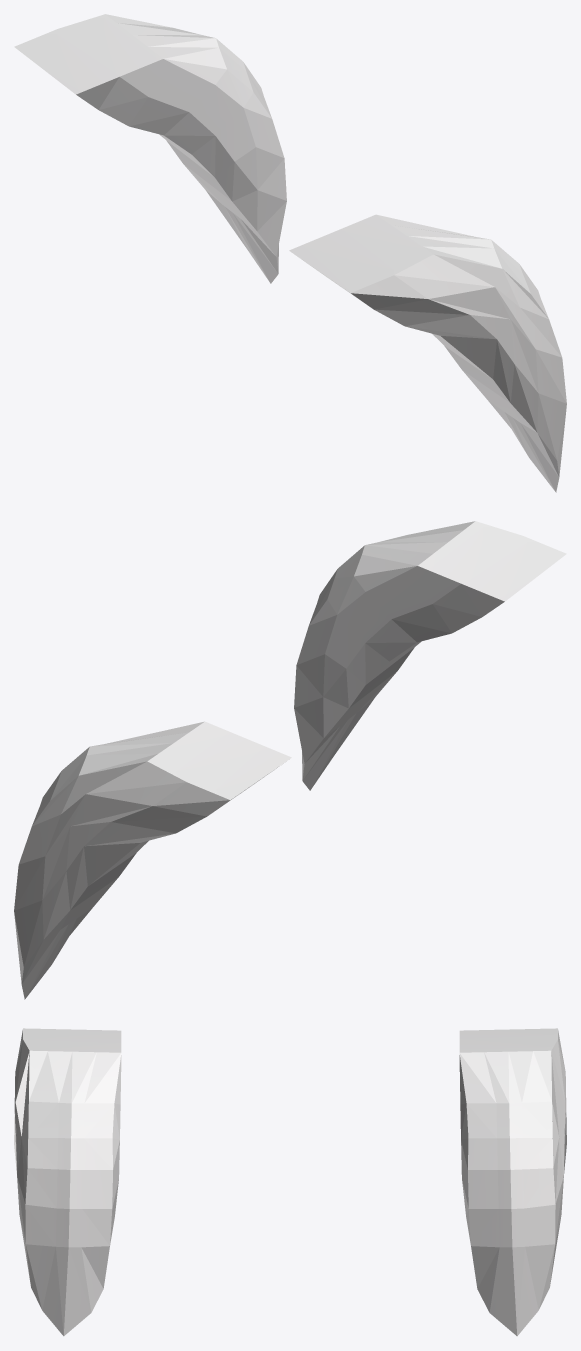
Rendered from VAMPIRE FANGS.fbx.
3 renders of one model, top to bottom at view 1: azimuth 30°, elevation 25°; view 2: azimuth 150°, elevation 25°; view 3: azimuth 270°, elevation 25°, orthographic. The views are drawn at different scales.
Visible parts, largest first — view 1: VAMPIRE_FANGS; view 2: VAMPIRE_FANGS; view 3: VAMPIRE_FANGS.
Boxes of the visible parts, <box> form: VAMPIRE_FANGS: <box>14,14,566,492</box>; VAMPIRE_FANGS: <box>14,521,566,999</box>; VAMPIRE_FANGS: <box>14,1028,566,1336</box>.
Size of the model in its own units: 2.58 by 3.04 by 6.62.
